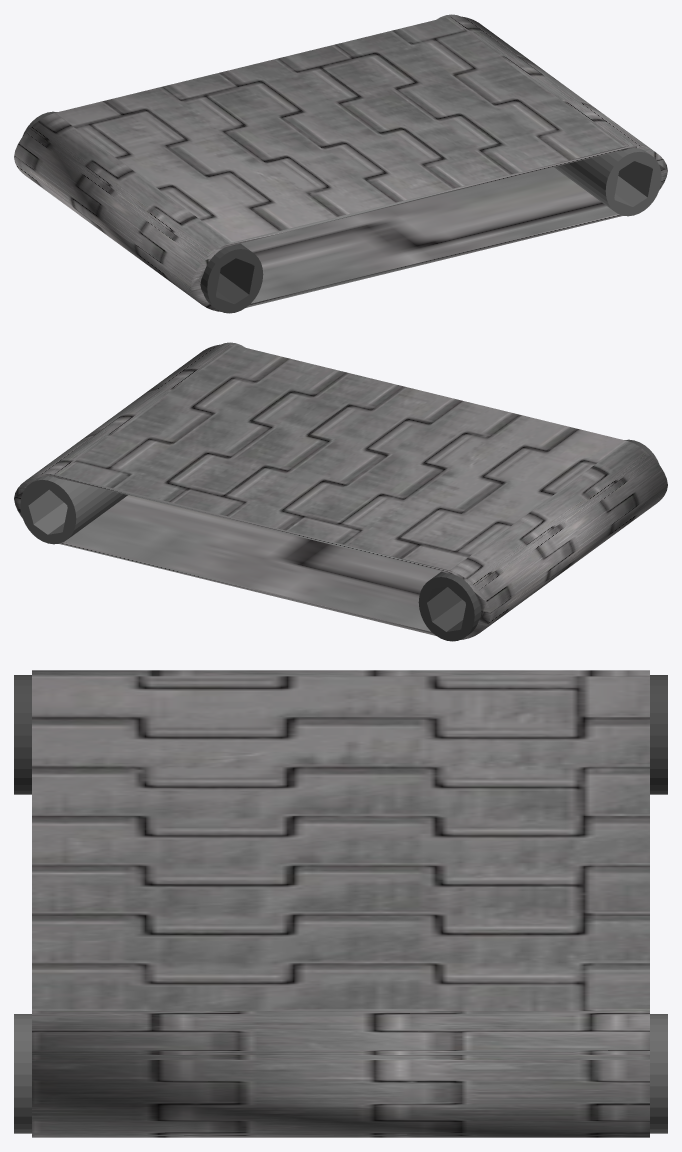
Rendered from Belt.fbx.
3 views of the same model, one above another, from view 1: azimuth 30°, elevation 25°; view 2: azimuth 150°, elevation 25°; view 3: azimuth 270°, elevation 25° (orthographic). The views are drawn at different scales.
Parts seen in each view (by area): view 1: Cube, Cylinder.001, Cylinder; view 2: Cube, Cylinder.001, Cylinder; view 3: Cube, Cylinder, Cylinder.001.
Part boxes in pixels (bbox=[...]): Cube: bbox=[14, 16, 667, 311]; Cylinder.001: bbox=[437, 14, 661, 216]; Cylinder: bbox=[22, 111, 263, 313]; Cube: bbox=[14, 344, 667, 639]; Cylinder.001: bbox=[20, 342, 244, 544]; Cylinder: bbox=[418, 439, 659, 641]; Cube: bbox=[32, 670, 649, 1137]; Cylinder: bbox=[14, 675, 667, 794]; Cylinder.001: bbox=[14, 1014, 667, 1133].
Size of the model in its own units: 389 by 53.64 by 265.
3 materials, 1 textured.
